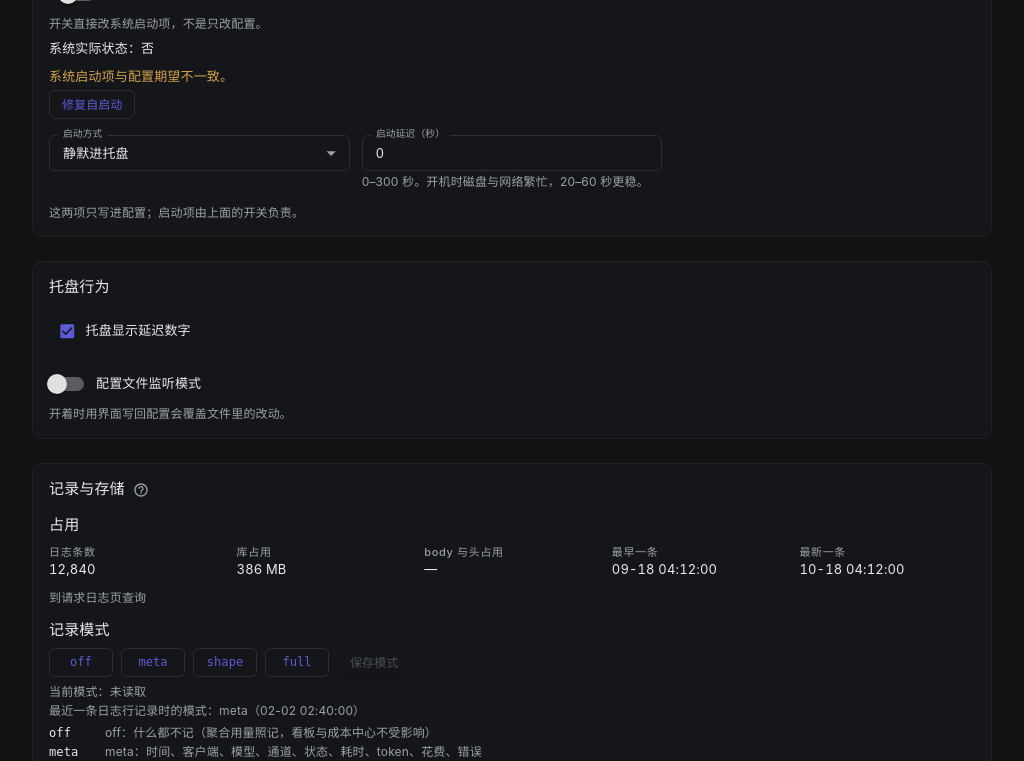
Test: [配置] 文件监听模式：真写配置，结论只可能「需要重启」 › 拨开关真的调 config_set_file_watch_mode（参数是 enabled），并且只说「需要重启」
(page scrolled)
What coordinates should you click on to do the following:
click the 2nd switch labelled "配置文件监听模式"
I would click on:
 (124, 384)
Its box is 47,374 -> 201,394.
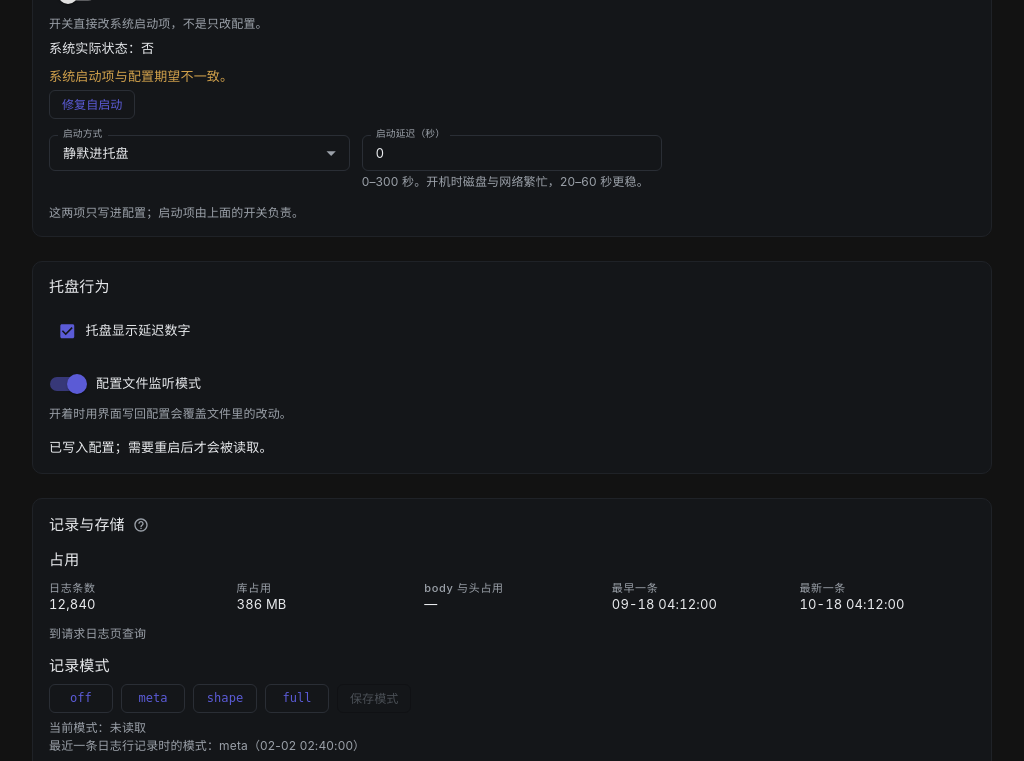
Result: the text with test id "settings-file-watch-result" shows "需要重启" at 49,439 -> 273,455
